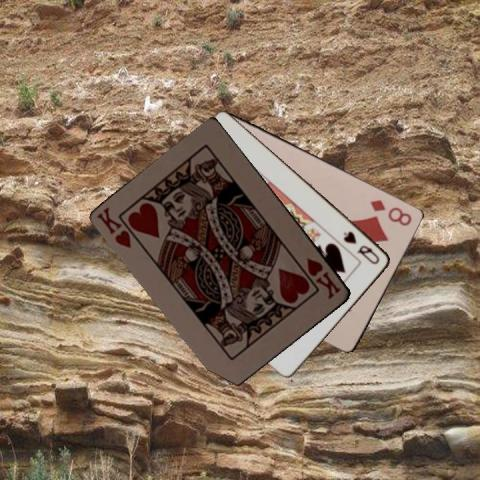8d: (368, 197, 414, 227)
Kh: (303, 254, 343, 300), (94, 204, 133, 249)
Qs: (341, 228, 382, 266)
